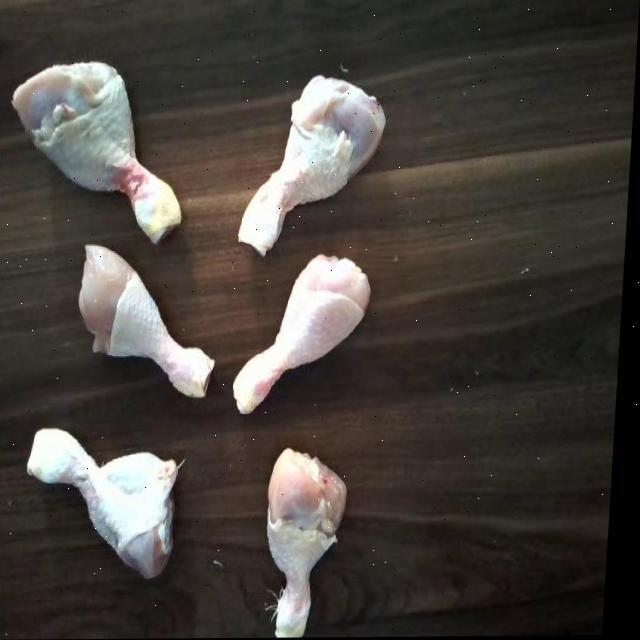leg: (5, 62, 197, 247), (17, 416, 198, 578), (236, 66, 386, 256), (62, 239, 224, 406), (234, 238, 368, 434), (249, 438, 355, 638)
